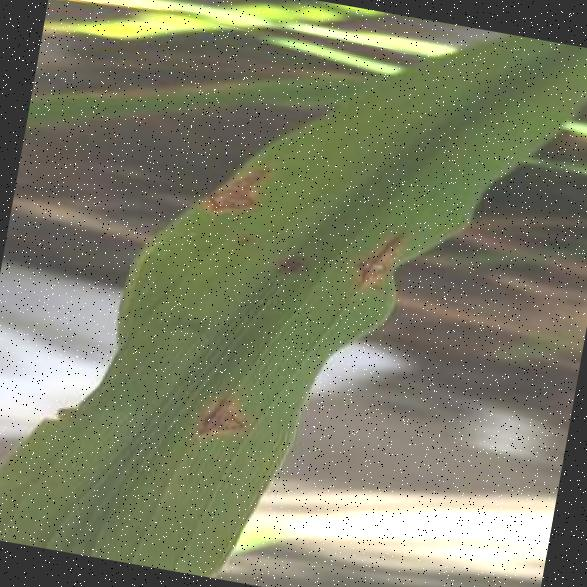Leaf_smut: (170, 133, 308, 246), (305, 193, 404, 302), (172, 370, 267, 467)
